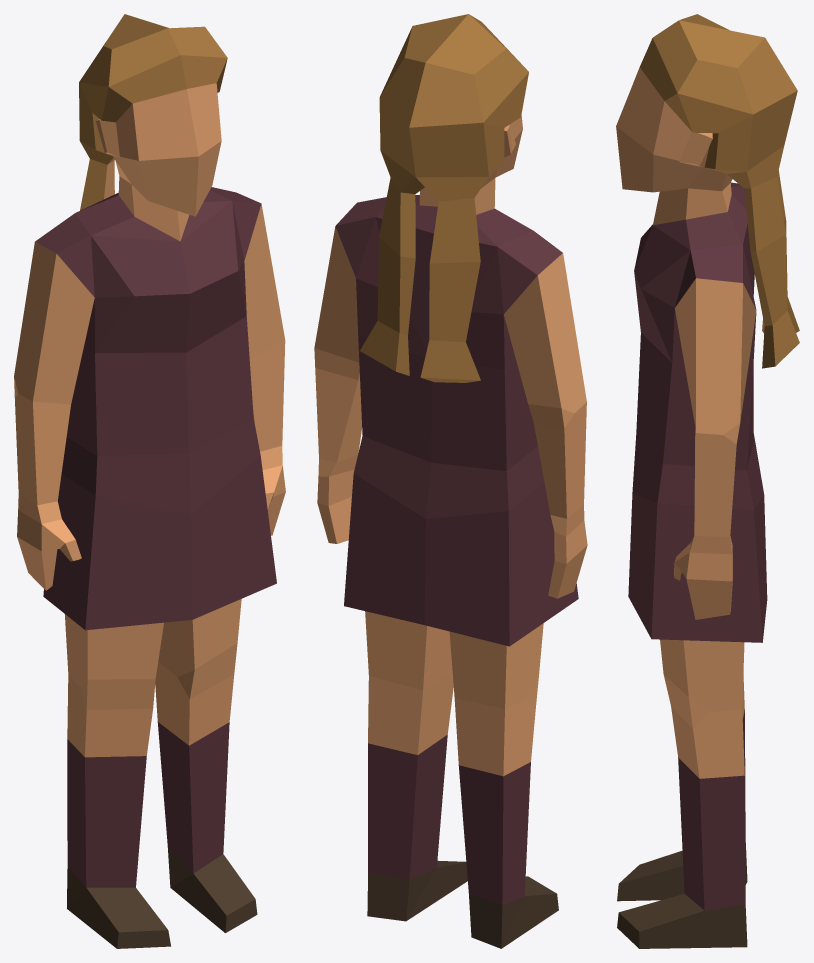
The model's file is girl-skirt.fbx.
3 views of the same model, side by side, from view 1: azimuth 30°, elevation 25°; view 2: azimuth 150°, elevation 25°; view 3: azimuth 270°, elevation 25° (orthographic).
Visible parts, largest first — view 1: girl-skirt; view 2: girl-skirt; view 3: girl-skirt.
Boxes of the visible parts, x1,y1,x2,y2 form: girl-skirt: [14, 14, 285, 948]; girl-skirt: [314, 14, 587, 948]; girl-skirt: [616, 14, 799, 948].
Size of the model in its own units: 0.3303 by 1.1 by 0.2052.
